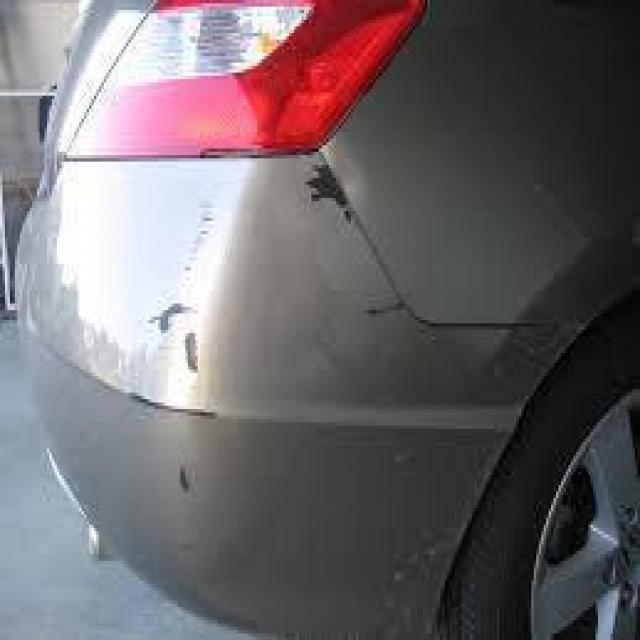damaged: (118, 202, 220, 512), (301, 154, 351, 224)
